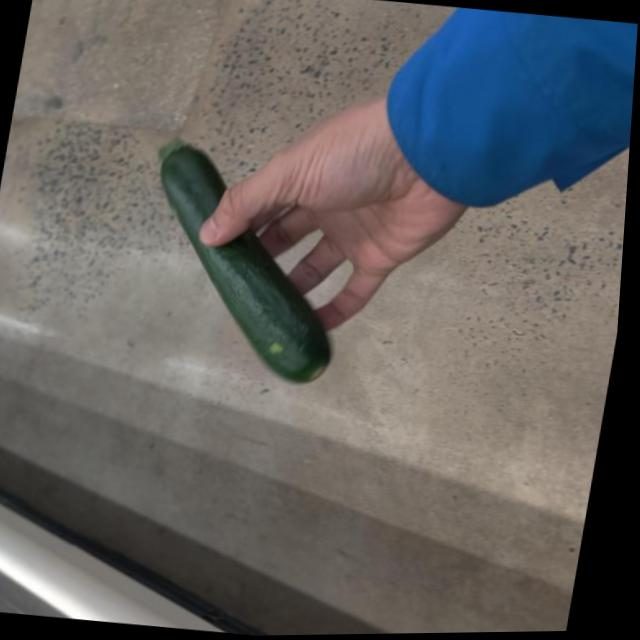Zucchini: (111, 129, 364, 406)
